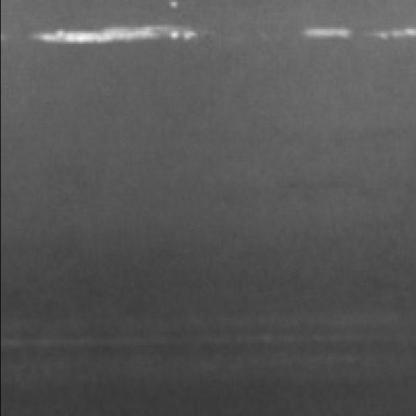scratches: (27, 14, 202, 48), (297, 16, 412, 44)
